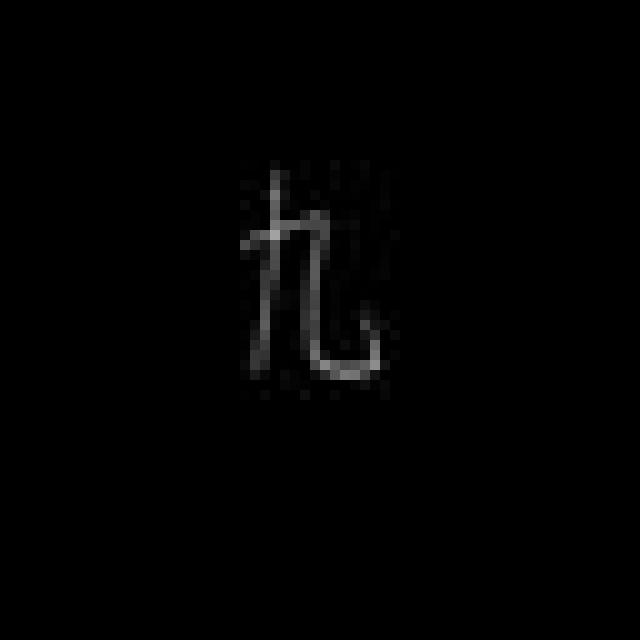9 -nine-: (235, 173, 387, 397)
